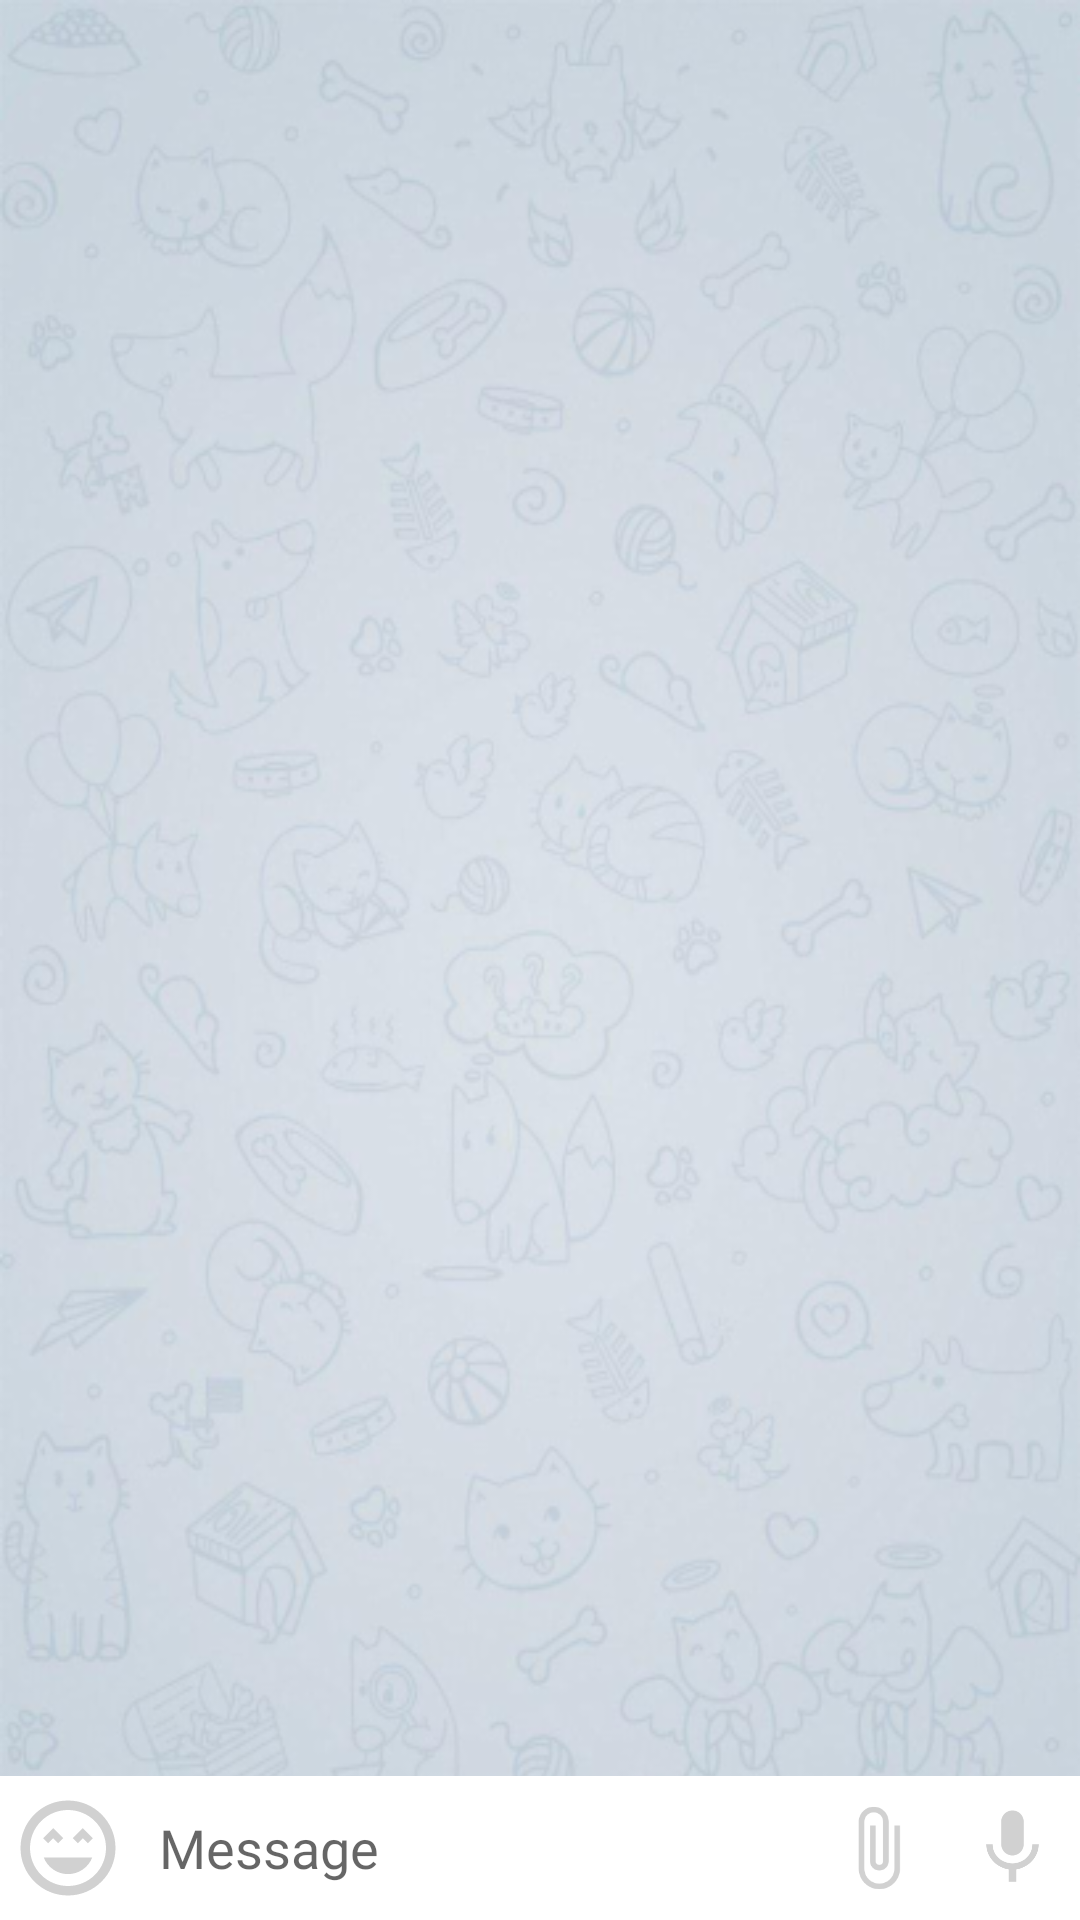

Locate icon controls on the screen. Image size 1080 × 1920, boxes as box=[x1, y1, x2, y2].
attach file: box=[859, 1807, 900, 1889]
emot: box=[21, 1801, 115, 1895]
mic: box=[986, 1811, 1039, 1882]
